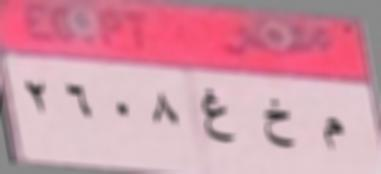0: (112, 94, 139, 130)
2: (14, 75, 51, 124)
6: (62, 72, 98, 132)
8: (148, 90, 186, 137)
ghayn: (192, 83, 237, 147)
khaa: (257, 94, 299, 158)
meem: (316, 106, 350, 152)
